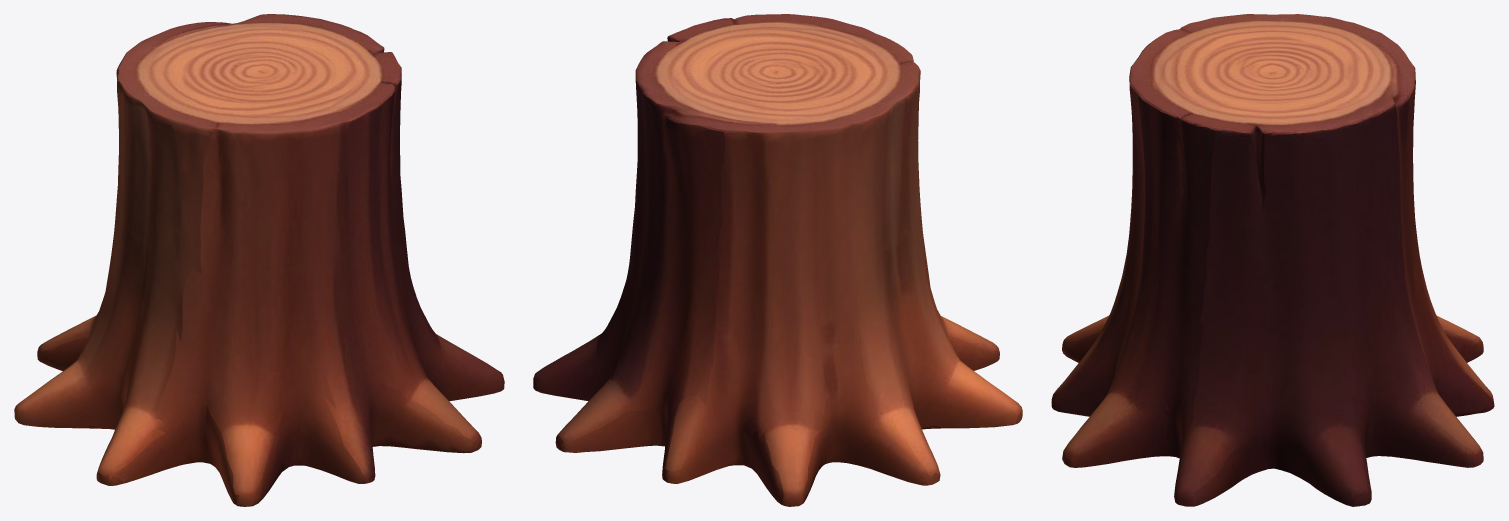
File: sz-stump.glb
The picture shows the model from 3 angles, left to right: view 1: azimuth 30°, elevation 25°; view 2: azimuth 150°, elevation 25°; view 3: azimuth 270°, elevation 25°; orthographic projection.
Parts seen in each view (by area): view 1: geometry_0; view 2: geometry_0; view 3: geometry_0.
Part boxes in pixels (<box>): geometry_0: <box>14,14,504,506</box>; geometry_0: <box>533,14,1022,506</box>; geometry_0: <box>1051,14,1494,506</box>.
Bounding box in the file's own units: 1 × 0.791 × 0.9384.
Materials: 1 (1 with a texture image).
